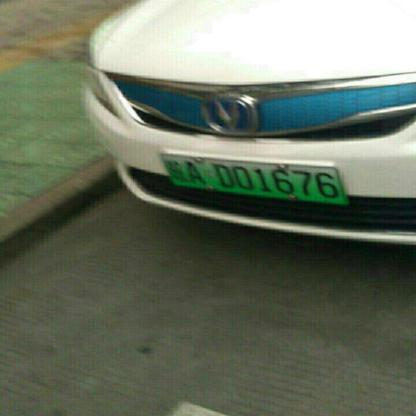lp: (163, 154, 347, 205)
